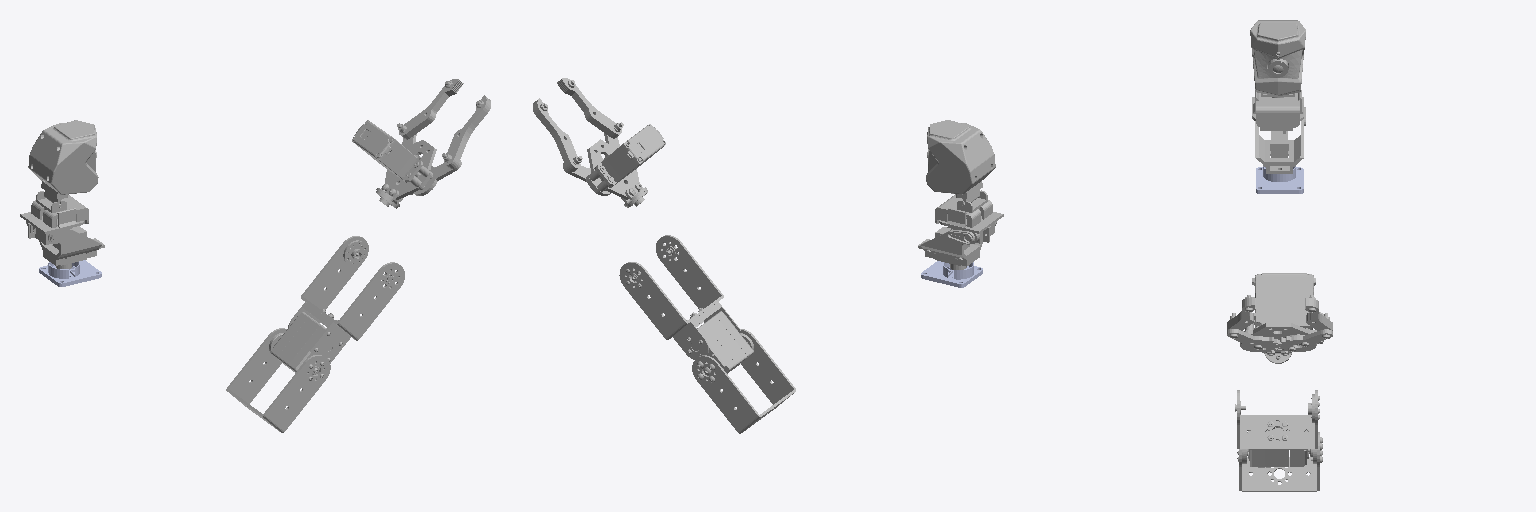
robot.urdf — tank_arm:
<robot
  name="tank_arm">


  <material name="Orange">
    <color rgba="1.0  0.55 0.0 1.0"/>
  </material>


  <link
    name="base_link">
    <inertial>
      <origin
        xyz="-0.014795 -0.00011444 0.096773"
        rpy="0 0 0" />
      <mass
        value="0.77918" />
      <inertia
        ixx="0.007554"
        ixy="-3.2017E-06"
        ixz="0.00099038"
        iyy="0.0083605"
        iyz="5.2704E-06"
        izz="0.0088156" />
    </inertial>
    <visual>
      <origin
        xyz="0 0 0"
        rpy="0 0 0" />
      <geometry>
        <mesh
          filename="package://tank_arm/.meshes/base_link.STL" />
      </geometry>
      <material
        name="Orange">
       
      </material>
    </visual>
    <collision>
      <origin
        xyz="0 0 0"
        rpy="0 0 0" />
      <geometry>
        <mesh
          filename="package://tank_arm/.meshes/base_link.STL" />
      </geometry>
    </collision>
  </link>
  <link
    name="arm_Link">
    <inertial>
      <origin
        xyz="0.0008317 -5.3906E-08 0.025779"
        rpy="0 0 0" />
      <mass
        value="0.010198" />
      <inertia
        ixx="5.2716E-06"
        ixy="1.3804E-11"
        ixz="-2.0545E-07"
        iyy="1.0832E-05"
        iyz="3.4273E-12"
        izz="6.5263E-06" />
    </inertial>
    <visual>
      <origin
        xyz="0 0 0"
        rpy="0 0 0" />
      <geometry>
        <mesh
          filename="package://tank_arm/.meshes/arm_Link.STL" />
      </geometry>
      <material
        name="">
        <color
          rgba="0.75294 0.75294 0.75294 1" />
      </material>
    </visual>
    <collision>
      <origin
        xyz="0 0 0"
        rpy="0 0 0" />
      <geometry>
        <mesh
          filename="package://tank_arm/.meshes/arm_Link.STL" />
      </geometry>
    </collision>
  </link>
  <joint
    name="arm_Joint"
    type="fixed">
    <origin
      xyz="0.11787 0 0.078855"
      rpy="0.79764 2.5278E-15 1.5708" />
    <parent
      link="base_link" />
    <child
      link="arm_Link" />
    <axis
      xyz="0 0 -1" />
    <limit
      lower="0"
      upper="1"
      effort="0"
      velocity="0" />
  </joint>
  <link
    name="Link1">
    <inertial>
      <origin
        xyz="1.3133E-05 0.022899 -0.028003"
        rpy="0 0 0" />
      <mass
        value="0.038608" />
      <inertia
        ixx="3.4941E-05"
        ixy="-3.3407E-08"
        ixz="1.1062E-08"
        iyy="1.0591E-05"
        iyz="-3.5759E-07"
        izz="2.7337E-05" />
    </inertial>
    <visual>
      <origin
        xyz="0 0 0"
        rpy="0 0 0" />
      <geometry>
        <mesh
          filename="package://tank_arm/.meshes/Link1.STL" />
      </geometry>
      <material
        name="">
        <color
          rgba="0.75294 0.75294 0.75294 1" />
      </material>
    </visual>
    <collision>
      <origin
        xyz="0 0 0"
        rpy="0 0 0" />
      <geometry>
        <mesh
          filename="package://tank_arm/.meshes/Link1.STL" />
      </geometry>
    </collision>
  </link>
  <joint
    name="a"
    type="revolute">
    <origin
      xyz="-0.02656 0 0.05"
      rpy="1.5708 -1.1102E-16 -1.5708" />
    <parent
      link="arm_Link" />
    <child
      link="Link1" />
    <axis
      xyz="0 0 -1" />
    <limit
      lower="-1.57"
      upper="1.57"
      effort="1000"
      velocity="2" />
  </joint>
  <link
    name="Link2">
    <inertial>
      <origin
        xyz="-0.014038831496598 0.0139678700935986 -0.030924646516322"
        rpy="0 0 0" />
      <mass
        value="0.0490506563674175" />
      <inertia
        ixx="1.96243089206479E-05"
        ixy="2.01841763318362E-06"
        ixz="-6.14073290374005E-07"
        iyy="1.83750208039923E-05"
        iyz="2.68275279391349E-06"
        izz="1.92681541418611E-05" />
    </inertial>
    <visual>
      <origin
        xyz="0 0 0"
        rpy="0 0 0" />
      <geometry>
        <mesh
          filename="package://tank_arm/.meshes/Link2.STL" />
      </geometry>
      <material
        name="">
        <color
          rgba="0.752941176470588 0.752941176470588 0.752941176470588 1" />
      </material>
    </visual>
    <collision>
      <origin
        xyz="0 0 0"
        rpy="0 0 0" />
      <geometry>
        <mesh
          filename="package://tank_arm/.meshes/Link2.STL" />
      </geometry>
    </collision>
  </link>
  <joint
    name="b"
    type="revolute">
    <origin
      xyz="0.0007415 0.088419 -0.0492"
      rpy="3.1416 1.2015E-16 -1.5708" />
    <parent
      link="Link1" />
    <child
      link="Link2" />
    <axis
      xyz="0 0 1" />
    <limit
      lower="0"
      upper="3.14"
      effort="1000"
      velocity="2" />
  </joint>
  <link
    name="Link3">
    <inertial>
      <origin
        xyz="-0.0024037 -0.016091 0.030128"
        rpy="0 0 0" />
      <mass
        value="0.028086" />
      <inertia
        ixx="8.4228E-06"
        ixy="2.7504E-07"
        ixz="1.4119E-07"
        iyy="7.5632E-06"
        iyz="8.4624E-07"
        izz="1.0816E-05" />
    </inertial>
    <visual>
      <origin
        xyz="0 0 0"
        rpy="0 0 0" />
      <geometry>
        <mesh
          filename="package://tank_arm/.meshes/Link3.STL" />
      </geometry>
      <material
        name="">
        <color
          rgba="0.75294 0.75294 0.75294 1" />
      </material>
    </visual>
    <collision>
      <origin
        xyz="0 0 0"
        rpy="0 0 0" />
      <geometry>
        <mesh
          filename="package://tank_arm/.meshes/Link3.STL" />
      </geometry>
    </collision>
  </link>
  <joint
    name="c"
    type="revolute">
    <origin
      xyz="-0.040891 0.028 -0.023798"
      rpy="1.388E-14 1.5621 -3.1416" />
    <parent
      link="Link2" />
    <child
      link="Link3" />
    <axis
      xyz="0 0 1" />
    <limit
      lower="-1.57"
      upper="1.57"
      effort="1000"
      velocity="2" />
  </joint>

   <link name="grasping_frame"/>
  <joint name="grasping_frame_joint" type="fixed">
 <parent link="Link3"/>
 <child link="grasping_frame"/>
 <origin xyz="0 0 0.1" rpy="0 0 0"/>
 </joint>
  <link
    name="left_Link">
    <inertial>
      <origin
        xyz="0.004218 0.0069489 -0.00092142"
        rpy="0 0 0" />
      <mass
        value="0.0024316" />
      <inertia
        ixx="3.3298E-07"
        ixy="-1.7517E-07"
        ixz="-1.6999E-08"
        iyy="2.1999E-07"
        iyz="-2.3967E-08"
        izz="5.2084E-07" />
    </inertial>
    <visual>
      <origin
        xyz="0 0 0"
        rpy="0 0 0" />
      <geometry>
        <mesh
          filename="package://tank_arm/.meshes/left_Link.STL" />
      </geometry>
      <material
        name="">
        <color
          rgba="0.75294 0.75294 0.75294 1" />
      </material>
    </visual>
    <collision>
      <origin
        xyz="0 0 0"
        rpy="0 0 0" />
      <geometry>
        <mesh
          filename="package://tank_arm/.meshes/left_Link.STL" />
      </geometry>
    </collision>
  </link>
  <joint
    name="d"
    type="revolute">
    <origin
      xyz="0.014 0.0045 0.032"
      rpy="1.5708 0.04259 2.0836E-17" />
    <parent
      link="Link3" />
    <child
      link="left_Link" />
    <axis
      xyz="0 0 1" />
    <limit
     lower="-0.7"
      upper="0.7"
      effort="1000"
      velocity="2" />
  </joint>
  <link
    name="left_claw_Link">
    <inertial>
      <origin
        xyz="-0.0067138 -0.023128 0.0029439"
        rpy="0 0 0" />
      <mass
        value="0.0029301" />
      <inertia
        ixx="8.9998E-07"
        ixy="-1.6504E-07"
        ixz="-6.254E-10"
        iyy="6.8011E-08"
        iyz="-3.9118E-09"
        izz="9.4647E-07" />
    </inertial>
    <visual>
      <origin
        xyz="0 0 0"
        rpy="0 0 0" />
      <geometry>
        <mesh
          filename="package://tank_arm/.meshes/left_claw_Link.STL" />
      </geometry>
      <material
        name="">
        <color
          rgba="0.75294 0.75294 0.75294 1" />
      </material>
    </visual>
    <collision>
      <origin
        xyz="0 0 0"
        rpy="0 0 0" />
      <geometry>
        <mesh
          filename="package://tank_arm/.meshes/left_claw_Link.STL" />
      </geometry>
    </collision>
  </link>
  <joint
    name="e"
    type="fixed">
    <origin
      xyz="0.016301 0.023985 0.006"
      rpy="-3.1416 -4.1254E-17 0.034572" />
    <parent
      link="left_Link" />
    <child
      link="left_claw_Link" />
    <axis
      xyz="0 0 0" />
    <limit
      lower="0"
      upper="1"
      effort="0"
      velocity="0" />
  </joint>
  <link
    name="right_Link">
    <inertial>
      <origin
        xyz="-0.0047805 0.0064355 -0.00097122"
        rpy="0 0 0" />
      <mass
        value="0.0024778" />
      <inertia
        ixx="3.0347E-07"
        ixy="1.8733E-07"
        ixz="1.9868E-08"
        iyy="2.6091E-07"
        iyz="-2.29E-08"
        izz="5.3015E-07" />
    </inertial>
    <visual>
      <origin
        xyz="0 0 0"
        rpy="0 0 0" />
      <geometry>
        <mesh
          filename="package://tank_arm/.meshes/right_Link.STL" />
      </geometry>
      <material
        name="">
        <color
          rgba="0.75294 0.75294 0.75294 1" />
      </material>
    </visual>
    <collision>
      <origin
        xyz="0 0 0"
        rpy="0 0 0" />
      <geometry>
        <mesh
          filename="package://tank_arm/.meshes/right_Link.STL" />
      </geometry>
    </collision>
  </link>
  <joint
    name="f"
    type="revolute">
    <origin
      xyz="-0.014 0.0042501 0.032"
      rpy="1.5708 -0.023479 1.7352E-17" />
    <parent
      link="Link3" />
    <child
      link="right_Link" />
    <axis
      xyz="0 0 1" />
    <limit
      lower="-0.7"
      upper="0.7"
      effort="1000"
      velocity="2" />
	   <mimic joint="d" multiplier="-1.0" offset="0.0" />
  </joint>
  <link
    name="right_claw_Link">
    <inertial>
      <origin
        xyz="0.0067138 0.023128 0.0030561"
        rpy="0 0 0" />
      <mass
        value="0.0029301" />
      <inertia
        ixx="8.9998E-07"
        ixy="-1.6504E-07"
        ixz="-6.254E-10"
        iyy="6.8011E-08"
        iyz="-3.9118E-09"
        izz="9.4647E-07" />
    </inertial>
    <visual>
      <origin
        xyz="0 0 0"
        rpy="0 0 0" />
      <geometry>
        <mesh
          filename="package://tank_arm/.meshes/right_claw_Link.STL" />
      </geometry>
      <material
        name="">
        <color
          rgba="0.75294 0.75294 0.75294 1" />
      </material>
    </visual>
    <collision>
      <origin
        xyz="0 0 0"
        rpy="0 0 0" />
      <geometry>
        <mesh
          filename="package://tank_arm/.meshes/right_claw_Link.STL" />
      </geometry>
    </collision>
  </link>
  <joint
    name="h"
    type="fixed">
    <origin
      xyz="-0.018574 0.022271 0"
      rpy="-2.2204E-16 5.7246E-17 -0.022923" />
    <parent
      link="right_Link" />
    <child
      link="right_claw_Link" />
    <axis
      xyz="0 0 0" />
    <limit
      lower="0"
      upper="1"
      effort="0"
      velocity="0" />
  </joint>
  <link
    name="pan_Link">
    <inertial>
      <origin
        xyz="-0.014795 -0.00011444 0.096773"
        rpy="0 0 0" />
      <mass
        value="0.77918" />
      <inertia
        ixx="0.007554"
        ixy="-3.2017E-06"
        ixz="0.00099038"
        iyy="0.0083605"
        iyz="5.2704E-06"
        izz="0.0088156" />
    </inertial>
    <visual>
      <origin
        xyz="0 0 0"
        rpy="0 0 0" />
      <geometry>
        <mesh
          filename="package://tank_arm/.meshes/pan_Link.STL" />
      </geometry>
      <material
        name="">
        <color
          rgba="0.79216 0.81961 0.93333 1" />
      </material>
    </visual>
    <collision>
      <origin
        xyz="0 0 0"
        rpy="0 0 0" />
      <geometry>
        <mesh
          filename="package://tank_arm/.meshes/pan_Link.STL" />
      </geometry>
    </collision>
  </link>
  <joint
    name="p"
    type="fixed">
    <origin
      xyz="-0.026312 0.0135 0.23074"
      rpy="5.6487E-17 3.9989E-18 1.5708" />
    <parent
      link="base_link" />
    <child
      link="pan_Link" />
    <axis
      xyz="0 0 0" />
    <limit
      lower="0"
      upper="1"
      effort="0"
      velocity="0" />
  </joint>
  
  <link
    name="pan_Link1">
    <inertial>
      <origin
        xyz="-0.00021633 -0.0039459 0.019586"
        rpy="0 0 0" />
      <mass
        value="0.01402" />
      <inertia
        ixx="2.2964E-06"
        ixy="4.1923E-08"
        ixz="3.4316E-08"
        iyy="1.9438E-06"
        iyz="-2.722E-07"
        izz="2.4497E-06" />
    </inertial>
    <visual>
      <origin
        xyz="0 0 0"
        rpy="0 0 0" />
      <geometry>
        <mesh
          filename="package://tank_arm/.meshes/pan_Link1.STL" />
      </geometry>
      <material
        name="">
        <color
          rgba="0.75294 0.75294 0.75294 1" />
      </material>
    </visual>
    <collision>
      <origin
        xyz="0 0 0"
        rpy="0 0 0" />
      <geometry>
        <mesh
          filename="package://tank_arm/.meshes/pan_Link1.STL" />
      </geometry>
    </collision>
  </link>
  <joint
    name="x"
    type="revolute">
    <origin
      xyz="-0.0135 0.020993 0.0015"
      rpy="5.421E-20 -2.1947E-16 1.5226E-13" />
    <parent
      link="pan_Link" />
    <child
      link="pan_Link1" />
    <axis
      xyz="0 0 -1" />
    <limit
	  lower="-1.57"
      upper="1.57"
      effort="1000"
      velocity="2"
     />
  </joint>
  <link
    name="pan_link2">
    <inertial>
      <origin
        xyz="0.013997 0.033225 0.017741"
        rpy="0 0 0" />
      <mass
        value="0.03494" />
      <inertia
        ixx="2.7616E-05"
        ixy="-5.2792E-06"
        ixz="-1.0568E-08"
        iyy="9.0293E-06"
        iyz="5.9812E-08"
        izz="2.9513E-05" />
    </inertial>
    <visual>
      <origin
        xyz="0 0 0"
        rpy="0 0 0" />
      <geometry>
        <mesh
          filename="package://tank_arm/.meshes/pan_link2.STL" />
      </geometry>
      <material
        name="">
        <color
          rgba="0.75294 0.75294 0.75294 1" />
      </material>
    </visual>
    <collision>
      <origin
        xyz="0 0 0"
        rpy="0 0 0" />
      <geometry>
        <mesh
          filename="package://tank_arm/.meshes/pan_link2.STL" />
      </geometry>
    </collision>
  </link>
  <joint
    name="y"
    type="revolute">
    <origin
      xyz="0.01662 0.01781 0.037782"
      rpy="1.5708 0.044008 -1.5708" />
    <parent
      link="pan_Link1" />
    <child
      link="pan_link2" />
    <axis
      xyz="0 0 -1" />
    <limit
      lower="-3"
      upper="0"
      effort="1000"
      velocity="2" />
  </joint>
    <link name="pan_frame"/>
	 <joint name="pan_frame_joint" type="fixed">
      <parent link="pan_link2"/>
      <child link="pan_frame"/>
      <origin xyz="0 0.07 0" rpy="0 0 0"/>
    </joint>
</robot>

--- What the picture shows (computed from the rendered views, not written in the file) ---
Views: 3 orthographic renders of the robot side by side, from view 1: azimuth 30°, elevation 25°; view 2: azimuth 150°, elevation 25°; view 3: azimuth 270°, elevation 25°.
Model tank_arm with 14 links and 13 joints (7 revolute, 6 fixed), rooted at base_link, posed all joints at 0.
Links seen in each view (by area): view 1: Link1, pan_link2, arm_Link, Link3, pan_Link1, pan_Link, right_claw_Link, left_claw_Link, left_Link; view 2: Link1, pan_link2, arm_Link, Link3, pan_Link1, pan_Link, left_claw_Link, right_claw_Link; view 3: pan_link2, Link1, Link3, arm_Link, pan_Link1, pan_Link, right_Link, left_Link, left_claw_Link, right_claw_Link.
Boxes of the visible links, left/top/right/bottom form: Link1: left=271, top=236, right=404, bottom=372; pan_link2: left=20, top=120, right=98, bottom=244; arm_Link: left=226, top=328, right=330, bottom=432; Link3: left=352, top=120, right=436, bottom=208; pan_Link1: left=26, top=221, right=104, bottom=268; pan_Link: left=39, top=260, right=101, bottom=286; right_claw_Link: left=399, top=79, right=463, bottom=139; left_claw_Link: left=444, top=95, right=490, bottom=168; left_Link: left=410, top=153, right=461, bottom=195; Link1: left=619, top=235, right=753, bottom=373; pan_link2: left=926, top=120, right=1003, bottom=243; arm_Link: left=692, top=329, right=795, bottom=433; Link3: left=586, top=124, right=665, bottom=207; pan_Link1: left=918, top=222, right=995, bottom=269; pan_Link: left=921, top=261, right=982, bottom=287; left_claw_Link: left=557, top=78, right=621, bottom=138; right_claw_Link: left=533, top=98, right=580, bottom=171; pan_link2: left=1250, top=20, right=1305, bottom=133; Link1: left=1235, top=390, right=1319, bottom=467; Link3: left=1244, top=273, right=1323, bottom=363; arm_Link: left=1237, top=432, right=1322, bottom=491; pan_Link1: left=1255, top=107, right=1305, bottom=173; pan_Link: left=1256, top=166, right=1303, bottom=193; right_Link: left=1277, top=313, right=1332, bottom=352; left_Link: left=1227, top=313, right=1279, bottom=352; left_claw_Link: left=1227, top=295, right=1255, bottom=330; right_claw_Link: left=1305, top=295, right=1332, bottom=330.
Bounding box of the posed robot: 0.385 × 0.0744 × 0.2785 m (x, y, z).
Meshes: 12 distinct files referenced, 10 mesh visuals loaded (10 binary STL); not drawn: 2 (reference not matched to a file when rendering).